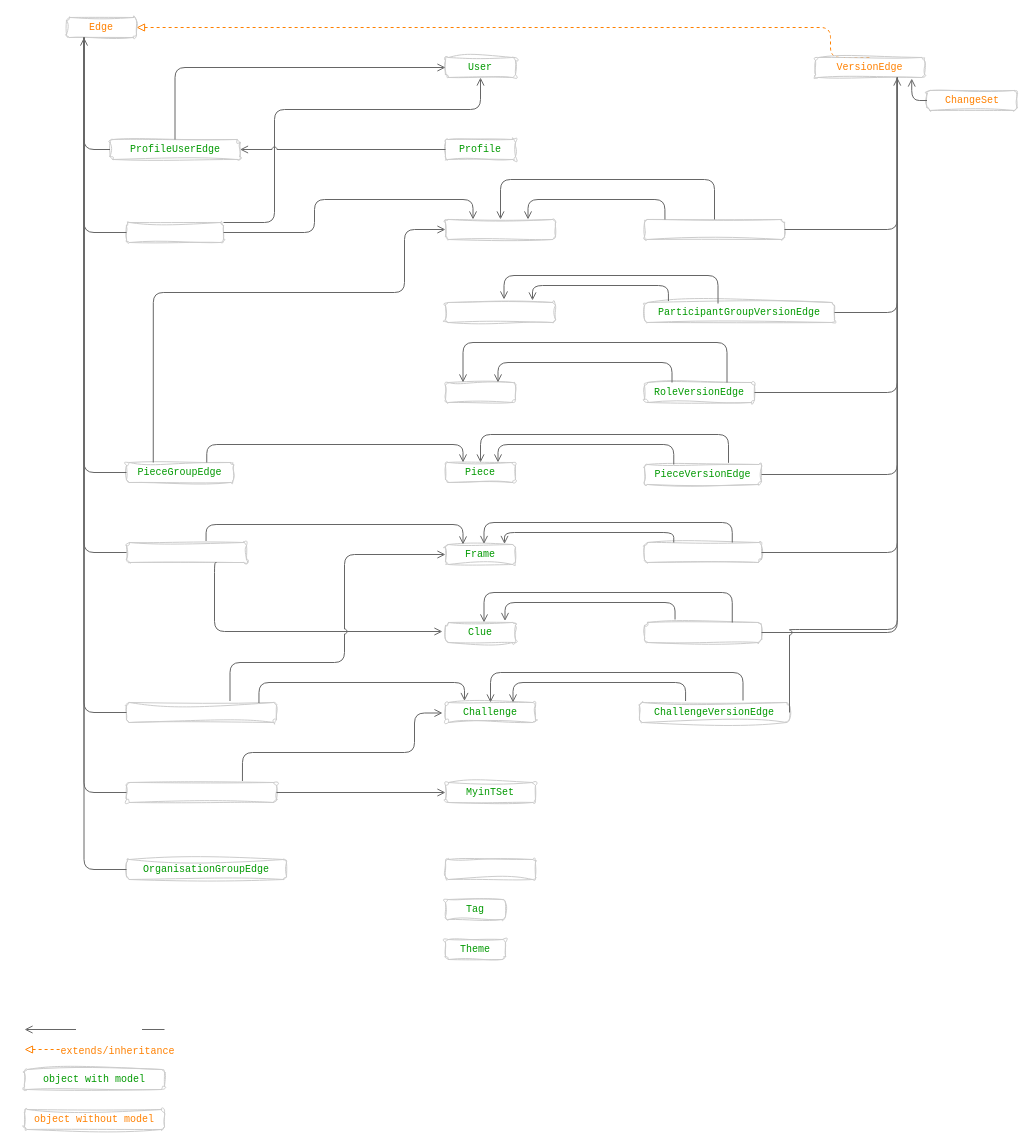
This 1035x1147 diagram has some shape labels left out. Here are the shapes that lost their labels. From the top down, the box of each, then its label:
(126, 222, 224, 242): UserGroupEdge
(444, 218, 556, 240): UserGroup
(644, 218, 784, 240): UserGroupVersionEdge
(444, 302, 556, 322): ParticipantGroup
(444, 382, 516, 402): Role
(126, 542, 246, 562): FrameClueEdge
(644, 542, 762, 562): FrameVersionEdge
(644, 622, 762, 642): ClueVersionEdge
(126, 702, 276, 722): ChallengeFrameEdge
(126, 782, 276, 802): ChallengeMyinTSetEdge
(444, 858, 536, 880): Organisation
